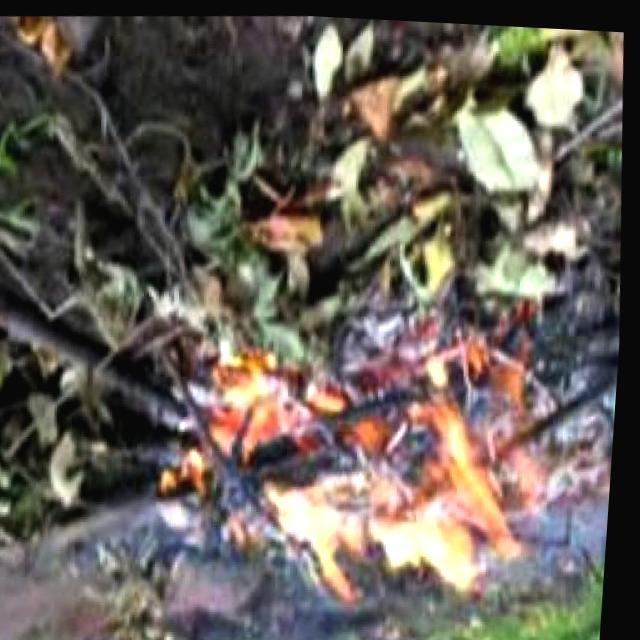no_helmet: (179, 322, 571, 601)
